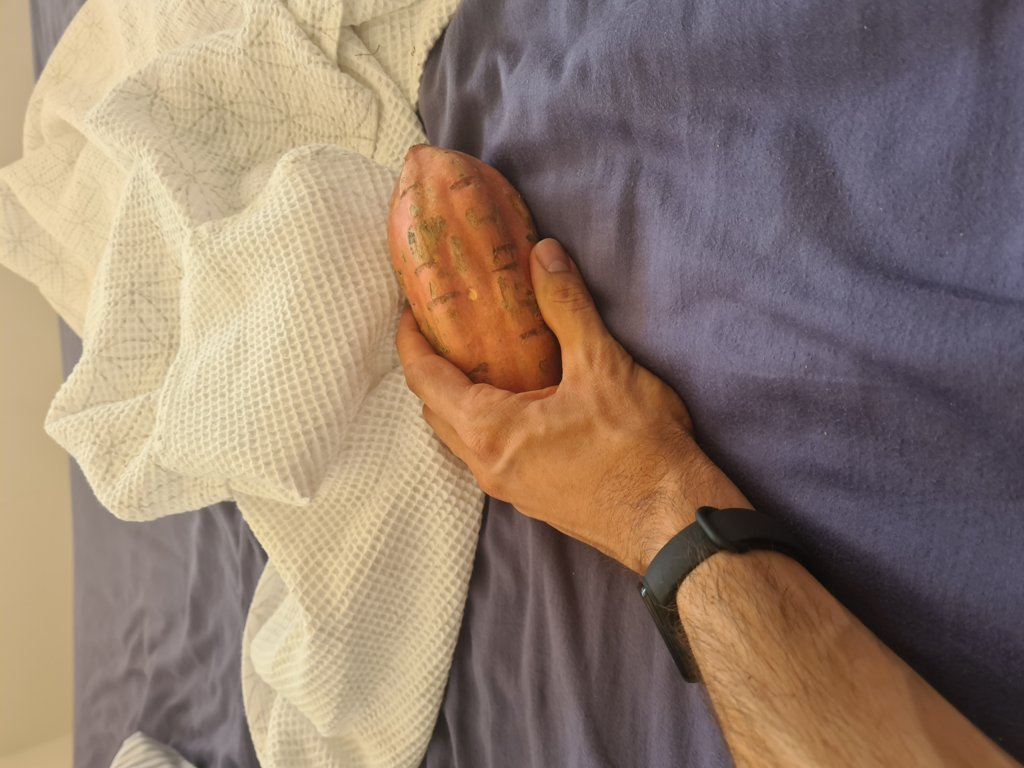Sweet Potatow: (392, 140, 567, 381)
